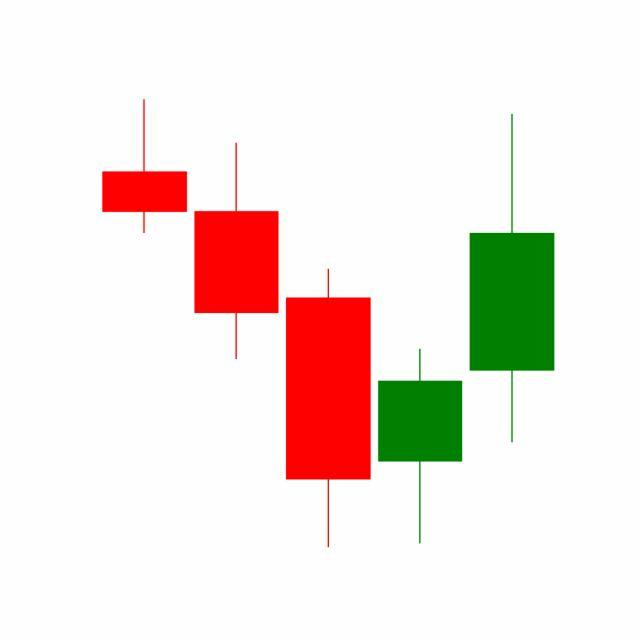Three Inside Up-Down: (280, 110, 555, 549)
